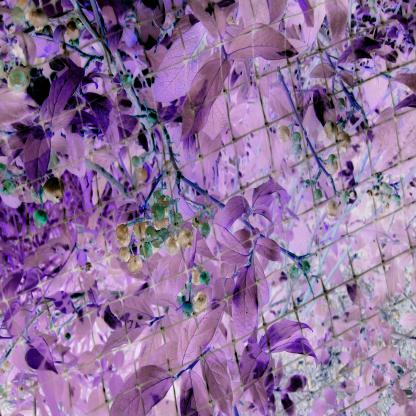blueberry leaf: (217, 169, 290, 243), (178, 52, 231, 153), (252, 313, 325, 377), (226, 21, 293, 78), (112, 362, 179, 416), (36, 60, 93, 123), (183, 288, 226, 371), (79, 89, 126, 164), (228, 247, 260, 352), (200, 349, 241, 416), (17, 125, 52, 202), (201, 218, 248, 275), (92, 318, 155, 356), (240, 336, 267, 400)
